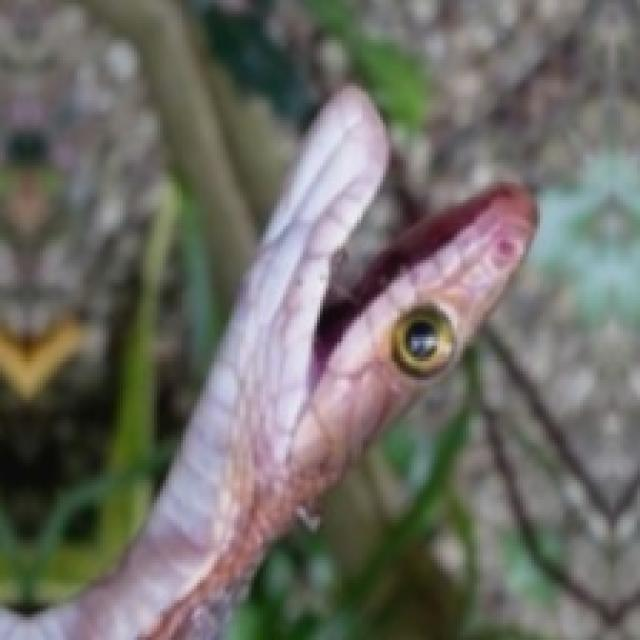reddish rat snake: (0, 86, 534, 637)
